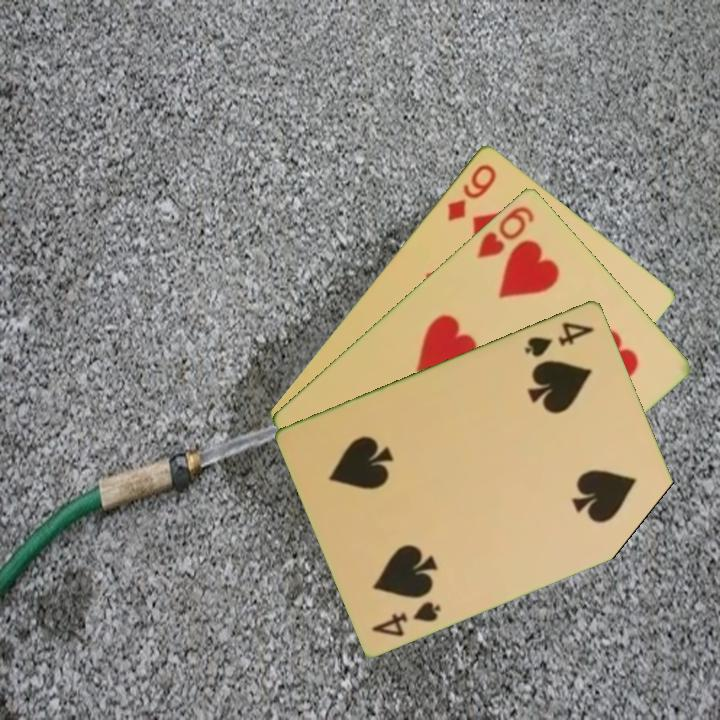4s: (520, 318, 597, 360), (368, 597, 444, 639)
6h: (473, 201, 538, 261)
9d: (443, 159, 500, 224)
